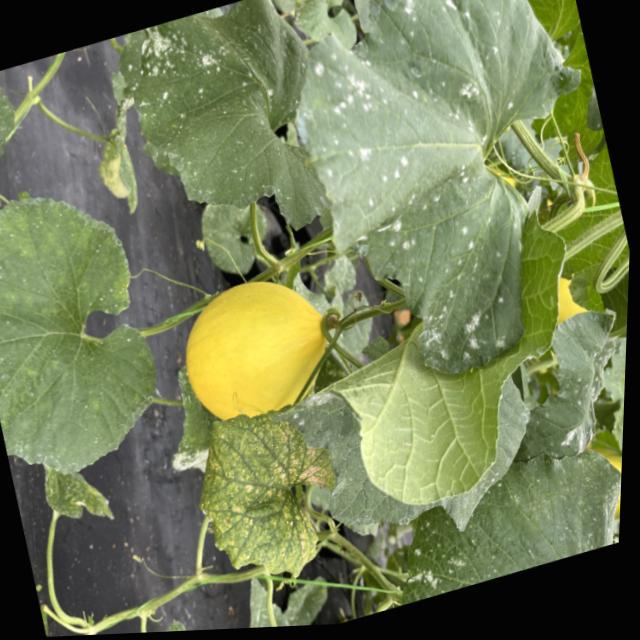SLCV: (174, 384, 369, 605), (34, 445, 122, 543)
downy mildew: (0, 158, 193, 503)
healthy: (513, 97, 635, 372)
powdery mildew: (258, 0, 640, 405), (100, 0, 355, 280), (368, 425, 623, 608), (496, 299, 628, 474), (0, 64, 37, 189)
